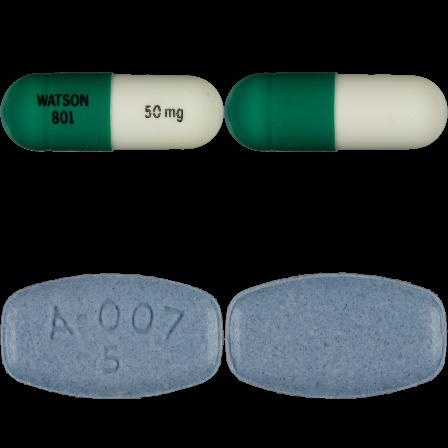16590-737: (0, 0, 224, 224)
